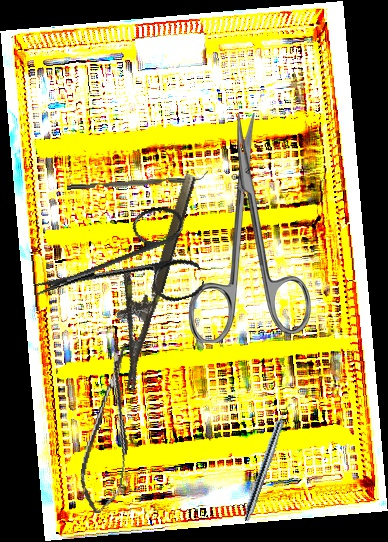Chopper: (66, 171, 209, 190)
Handpiece: (241, 400, 294, 524)
Iris Scissors: (188, 113, 312, 343), (22, 201, 207, 338)
Micro Scissor: (74, 339, 146, 517)
Needle Holder: (92, 164, 199, 392)
